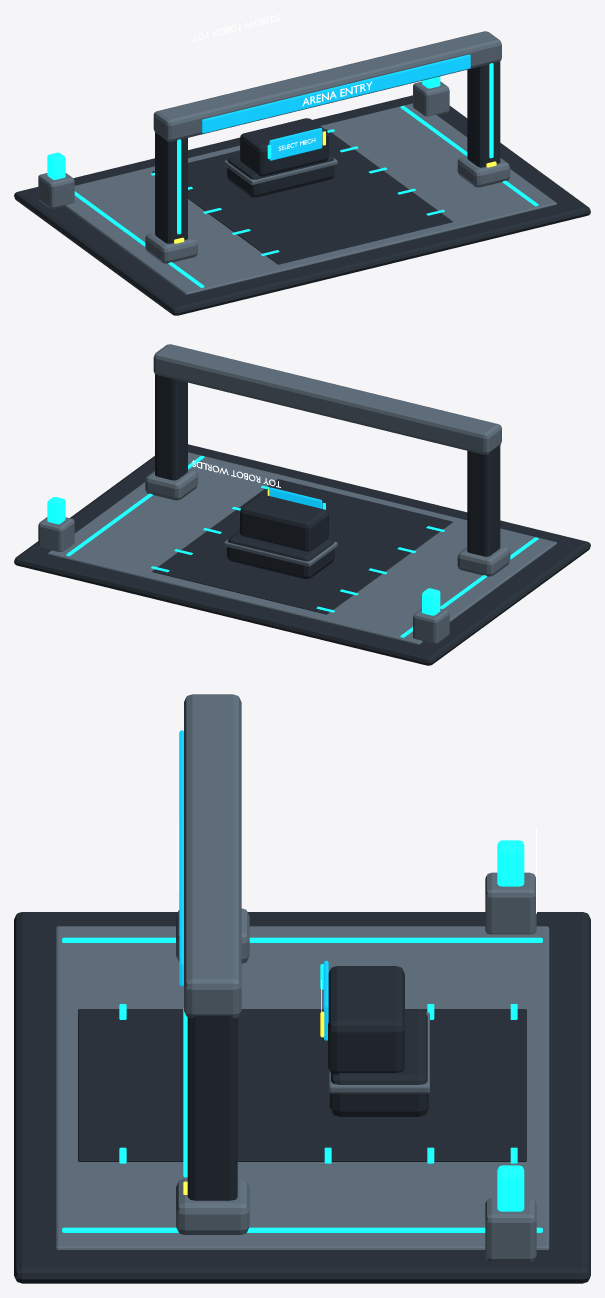
Rendered from arena_entry.glb.
The picture shows the model from 3 angles, top to bottom: view 1: azimuth 30°, elevation 25°; view 2: azimuth 150°, elevation 25°; view 3: azimuth 270°, elevation 25°; orthographic projection. The views are drawn at different scales.
Visible parts, largest first — view 1: Entry platform inset, Entry center walkway, Entry platform foundation, Welcome arch header, Welcome sign inset, Gate pylon.001, Gate pylon, Terminal console body, Terminal pedestal, Terminal screen, Entry beacon base, Gate pylon foot.001 (+8 smaller); view 2: Entry platform inset, Entry platform foundation, Entry center walkway, Welcome arch header, Terminal console body, Gate pylon, Gate pylon.001, Terminal pedestal, Gate pylon foot, Gate pylon foot.001, Entry beacon base, Entry beacon base.001 (+6 smaller); view 3: Entry platform inset, Entry platform foundation, Entry center walkway, Welcome arch header, Gate pylon.001, Terminal console body, Terminal pedestal, Gate pylon foot.001, Entry beacon base.001, Entry beacon base, Walkway edge light, Walkway edge light.001 (+5 smaller).
Boxes of the visible parts, x1,y1,x2,y2 form: Entry platform inset: [65, 103, 556, 295]; Entry center walkway: [152, 129, 452, 264]; Entry platform foundation: [14, 95, 590, 315]; Welcome arch header: [153, 31, 501, 141]; Welcome sign inset: [202, 54, 470, 133]; Gate pylon.001: [467, 61, 500, 167]; Gate pylon: [155, 132, 187, 243]; Terminal console body: [240, 118, 328, 176]; Terminal pedestal: [227, 154, 334, 197]; Terminal screen: [269, 128, 322, 160]; Entry beacon base: [38, 173, 74, 209]; Gate pylon foot.001: [457, 156, 510, 187]; Entry platform inset: [48, 452, 556, 645]; Entry platform foundation: [14, 444, 590, 665]; Entry center walkway: [152, 479, 452, 614]; Welcome arch header: [153, 344, 501, 454]; Terminal console body: [240, 494, 328, 551]; Gate pylon: [467, 445, 500, 556]; Gate pylon.001: [155, 374, 187, 480]; Terminal pedestal: [227, 530, 334, 579]; Gate pylon foot: [457, 545, 510, 576]; Gate pylon foot.001: [145, 469, 197, 500]; Entry beacon base: [413, 608, 449, 644]; Entry beacon base.001: [38, 517, 74, 551]; Entry platform inset: [55, 926, 549, 1250]; Entry platform foundation: [14, 912, 590, 1283]; Entry center walkway: [78, 1009, 526, 1161]; Welcome arch header: [184, 694, 241, 1018]; Gate pylon.001: [187, 1016, 237, 1200]; Terminal console body: [328, 966, 404, 1074]; Terminal pedestal: [329, 1010, 428, 1116]; Gate pylon foot.001: [176, 1179, 249, 1234]; Entry beacon base.001: [485, 1198, 536, 1262]; Entry beacon base: [485, 872, 536, 934]; Walkway edge light: [62, 937, 542, 942]; Walkway edge light.001: [62, 1227, 542, 1232].
Bounding box in the file's own units: 13.4 × 4.62 × 9.
